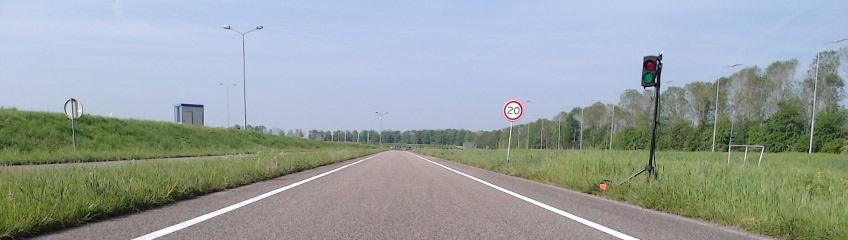Speed-limit-20km-h-: (504, 101, 523, 120)
TrafficLight-green: (642, 56, 658, 87)
